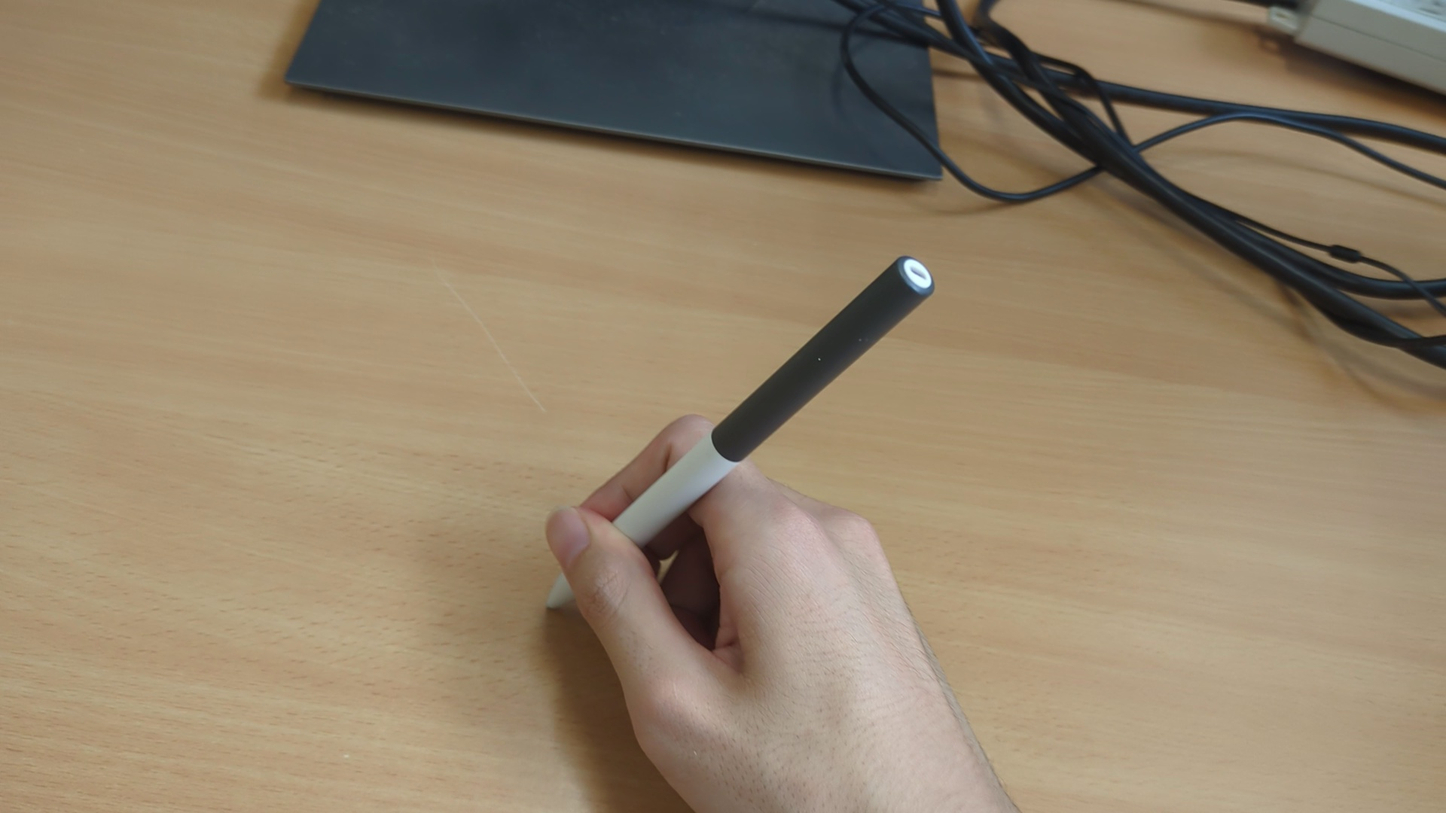pen: (542, 256, 938, 614)
tip: (537, 592, 563, 609)
